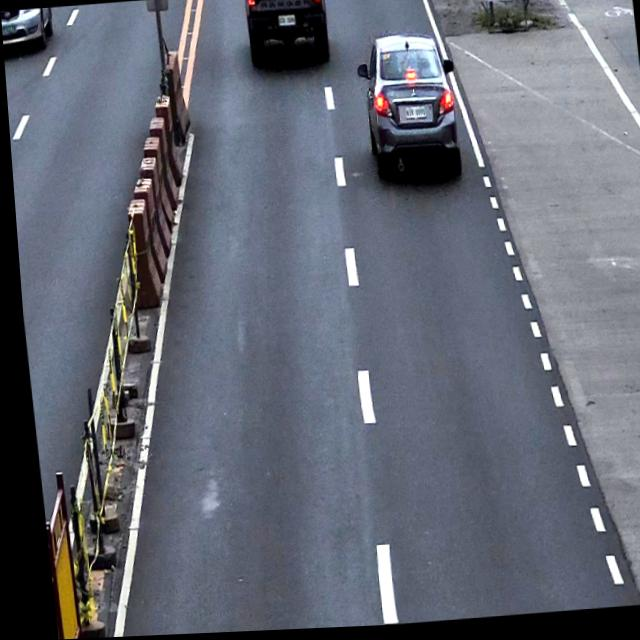Car: (354, 35, 464, 190), (241, 0, 331, 72), (1, 7, 55, 52)
License-Plate: (401, 108, 425, 124), (276, 16, 296, 29), (1, 23, 18, 36)
